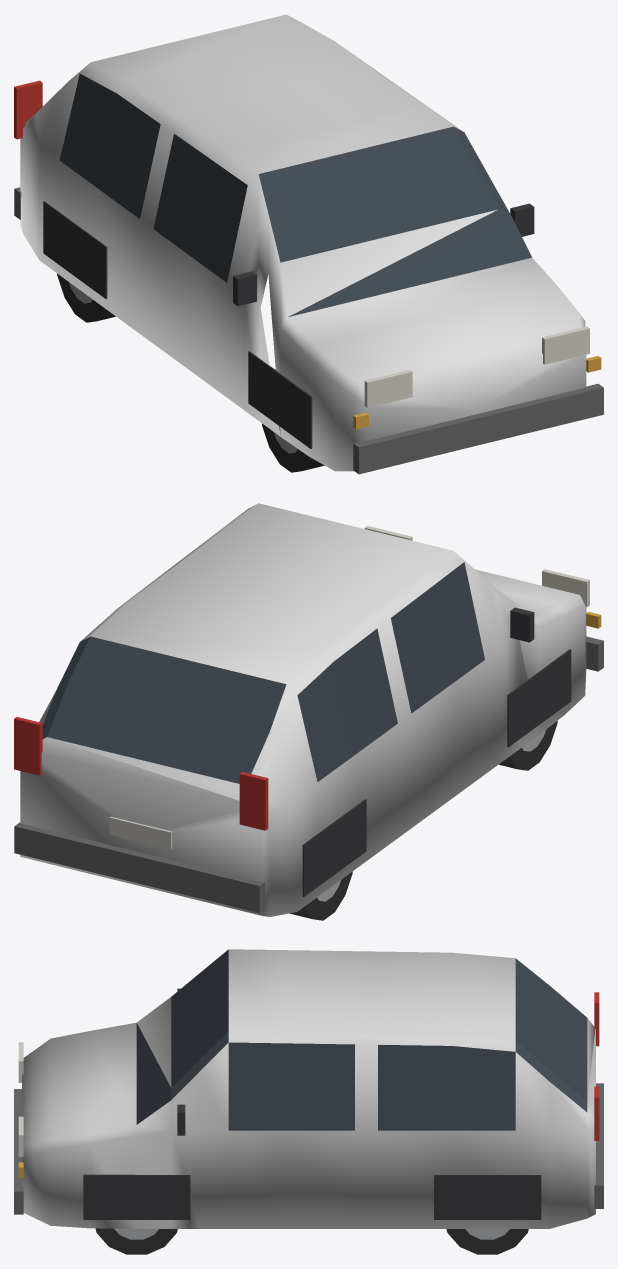
File: smallcar.glb
3 renders of one model, top to bottom at view 1: azimuth 30°, elevation 25°; view 2: azimuth 150°, elevation 25°; view 3: azimuth 270°, elevation 25°, orthographic. The views are drawn at different scales.
Parts seen in each view (by area): view 1: paint, fixed; view 2: paint, fixed; view 3: paint, fixed.
Boxes of the visible parts, left/top/right/bottom form: paint: left=20, top=14, right=586, bottom=471; fixed: left=14, top=73, right=603, bottom=474; paint: left=20, top=503, right=586, bottom=916; fixed: left=14, top=526, right=603, bottom=920; paint: left=22, top=949, right=595, bottom=1228; fixed: left=14, top=949, right=603, bottom=1254.
Bounding box in the file's own units: 1.84 × 1.47 × 3.7.
